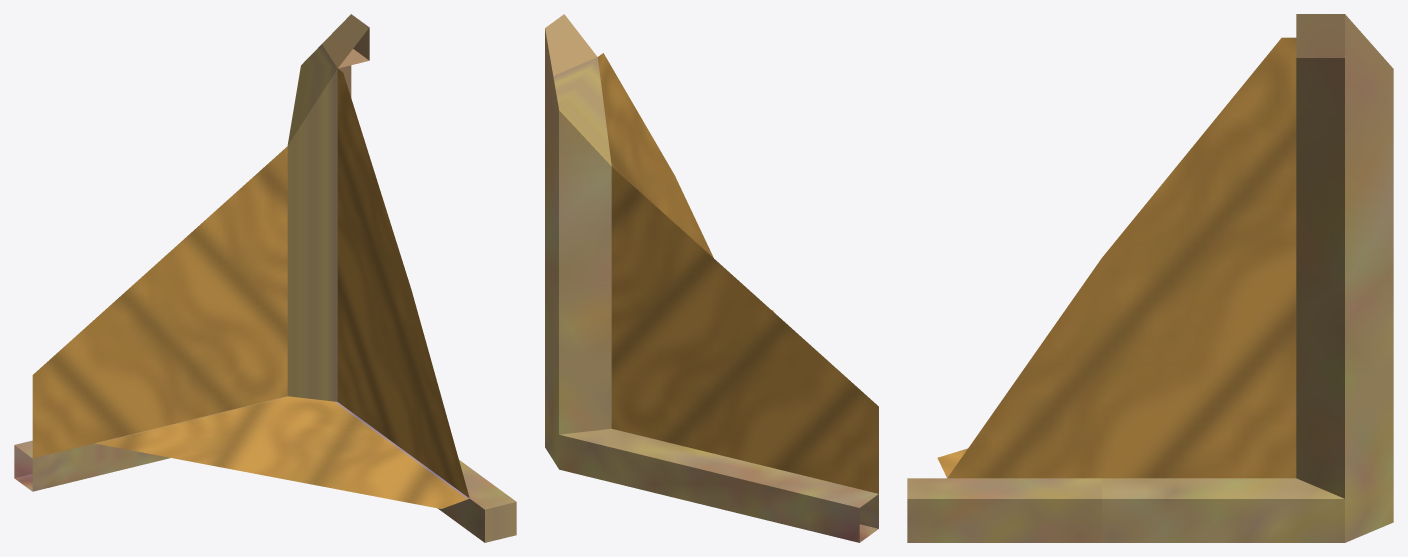
The model's file is crate_shattered_2.glb.
3 renders of one model, left to right at view 1: azimuth 30°, elevation 25°; view 2: azimuth 150°, elevation 25°; view 3: azimuth 270°, elevation 25°, orthographic. The views are drawn at different scales.
Visible parts, largest first — view 1: BoltCrateSplinter2; view 2: BoltCrateSplinter2; view 3: BoltCrateSplinter2.
Part boxes in pixels (x1,y1,x2,y2): BoltCrateSplinter2: (14,14,516,542); BoltCrateSplinter2: (545,14,878,542); BoltCrateSplinter2: (907,14,1393,542).
Size of the model in its own units: 1 by 1.2 by 1.
Materials: 1 (1 with a texture image).
